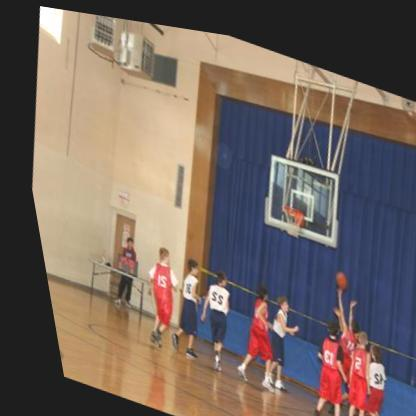basketball: (323, 261, 342, 279)
